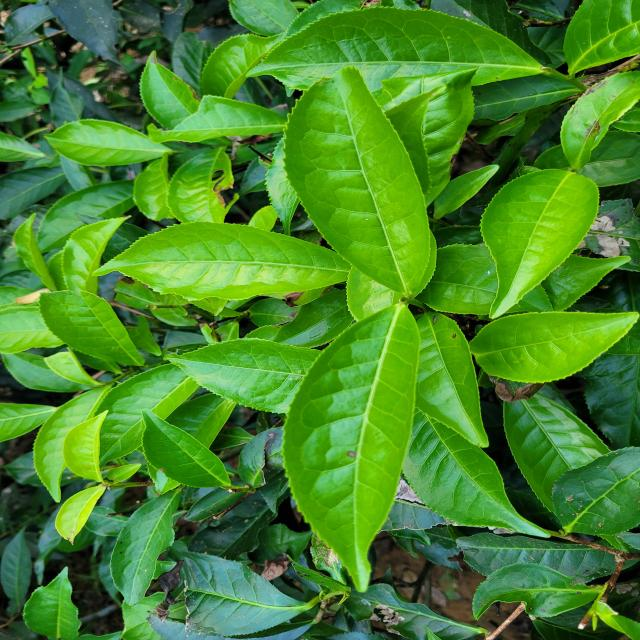Catagory A(1-2 days): (271, 62, 442, 306)
